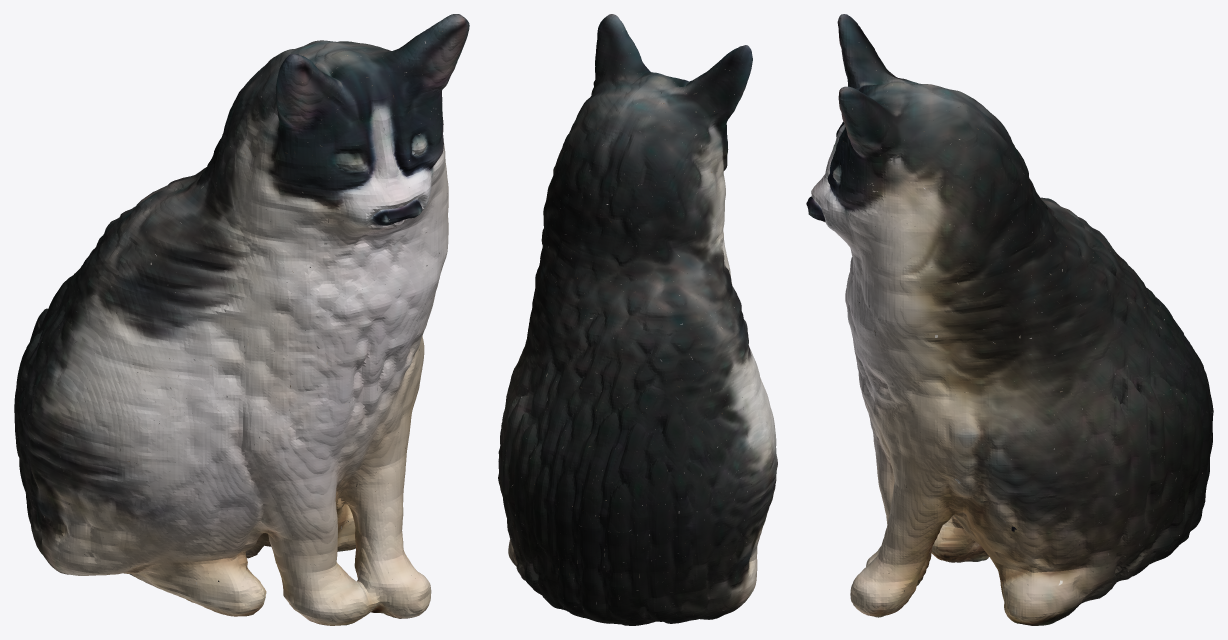
Rendered from bigode_r384.glb.
3 renders of one model, left to right at view 1: azimuth 30°, elevation 25°; view 2: azimuth 150°, elevation 25°; view 3: azimuth 270°, elevation 25°, orthographic. The views are drawn at different scales.
Visible parts, largest first — view 1: geometry_0; view 2: geometry_0; view 3: geometry_0.
Boxes of the visible parts, box(x1,y1,x2,y2) form: geometry_0: box(14, 14, 469, 625); geometry_0: box(498, 14, 777, 625); geometry_0: box(806, 14, 1213, 625).
Bounding box in the file's own units: 0.5501 × 0.9606 × 0.6517.
1 material, 1 textured.
